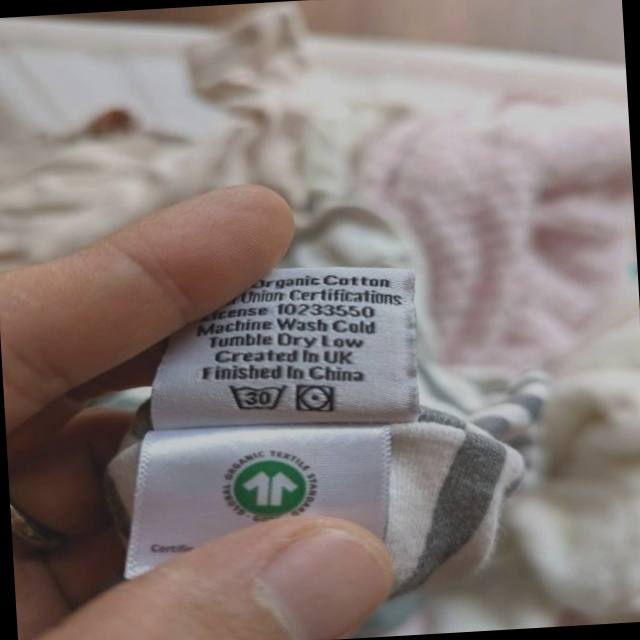30C: (223, 378, 291, 416)
tumble_dry_low: (292, 380, 339, 418)
